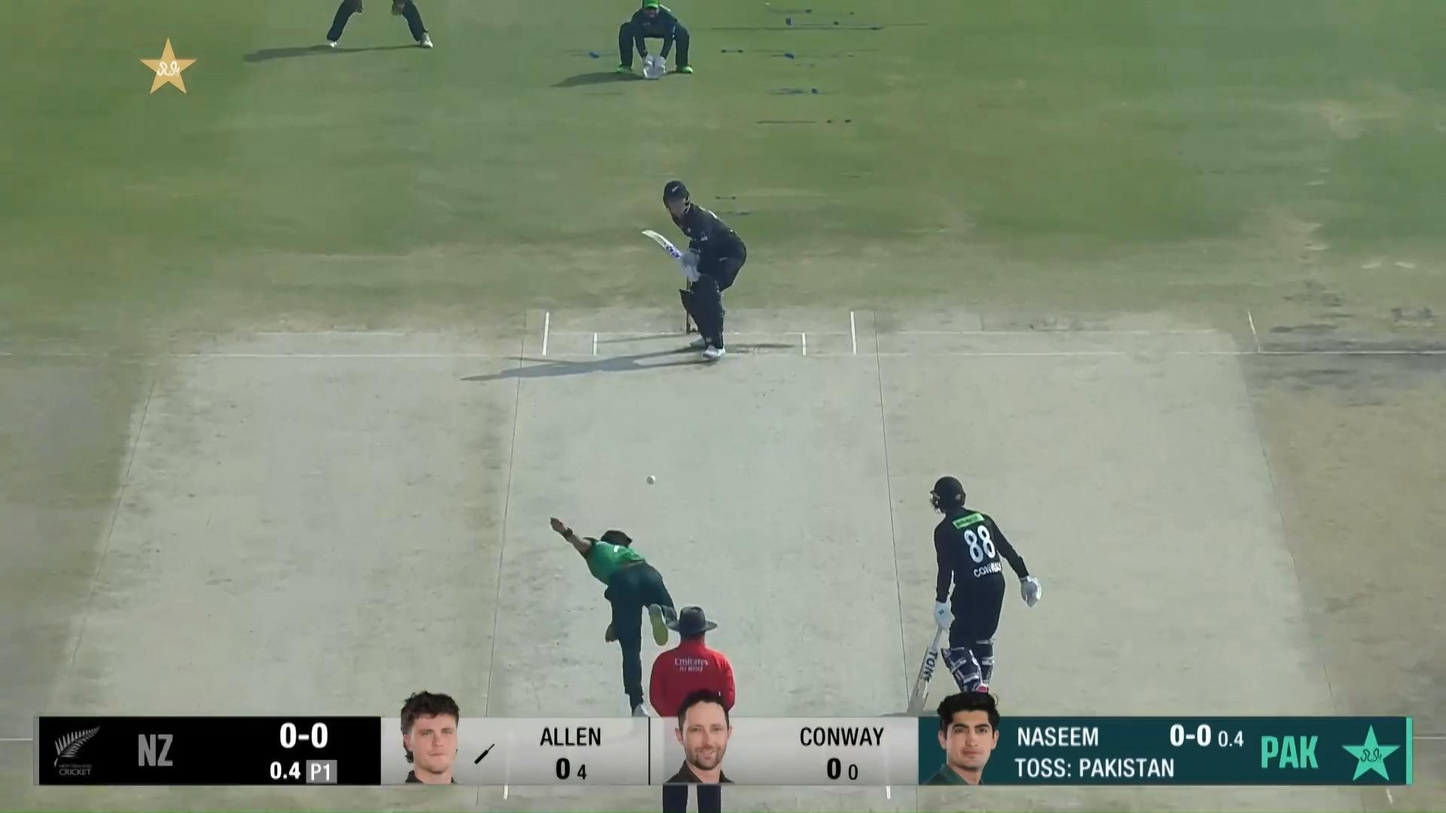BM 1: (640, 180, 747, 359)
BO: (548, 514, 680, 716)
